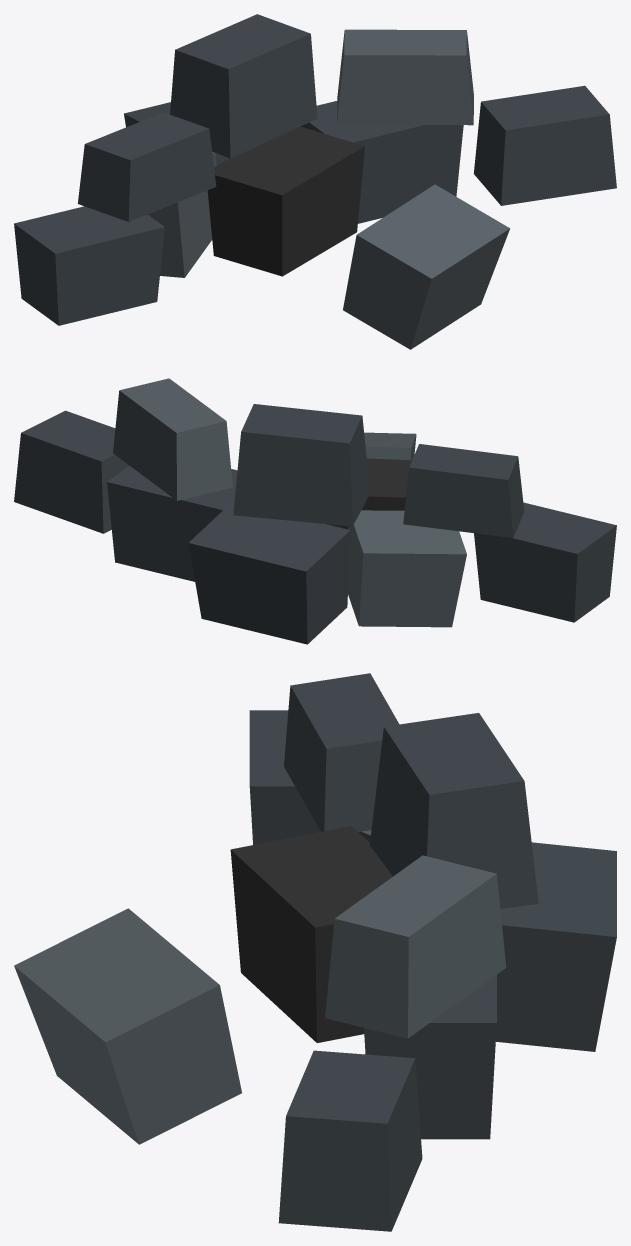
Rendered from RuinRubble-A04.fbx.
3 views of the same model, one above another, from view 1: azimuth 30°, elevation 25°; view 2: azimuth 150°, elevation 25°; view 3: azimuth 270°, elevation 25° (orthographic). The views are drawn at different scales.
Parts seen in each view (by area): view 1: RuinRubble-A04; view 2: RuinRubble-A04; view 3: RuinRubble-A04.
Boxes of the visible parts, left/top/right/bottom form: RuinRubble-A04: left=14, top=14, right=616, bottom=349; RuinRubble-A04: left=14, top=378, right=616, bottom=644; RuinRubble-A04: left=14, top=673, right=616, bottom=1231.
Bounding box in the file's own units: 316 × 175 × 502.
